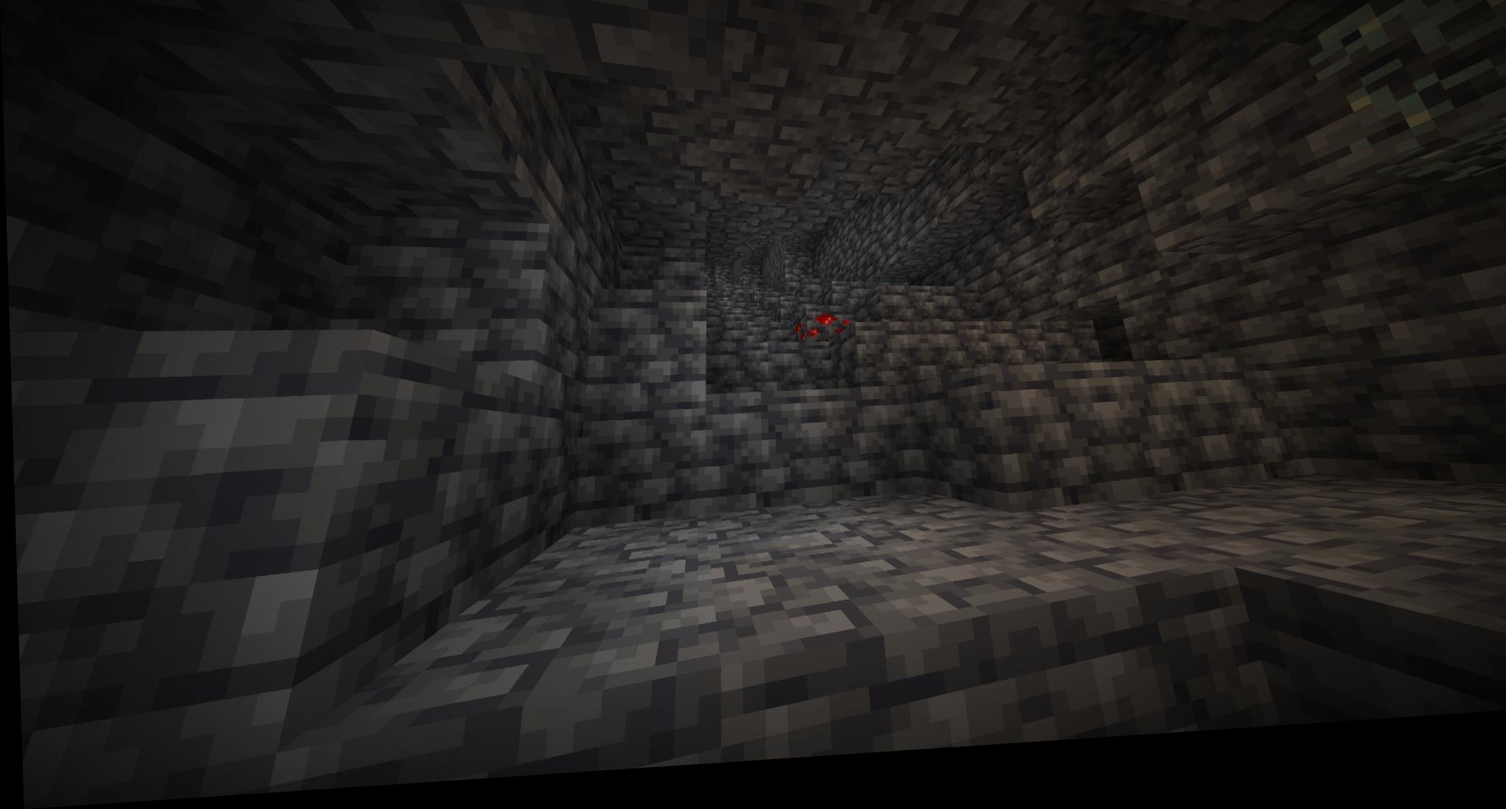redstone ore: (794, 316, 851, 363)
